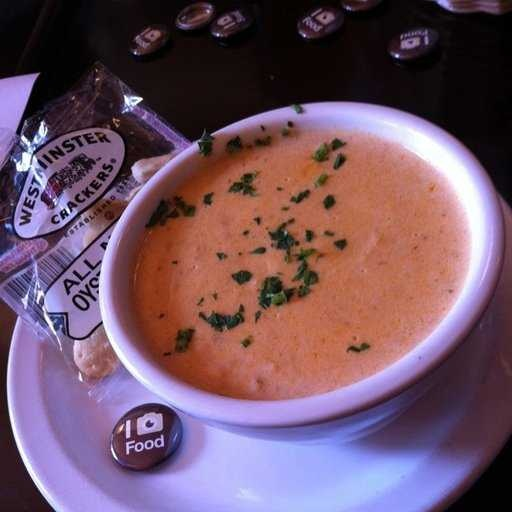soup: (125, 134, 456, 386)
